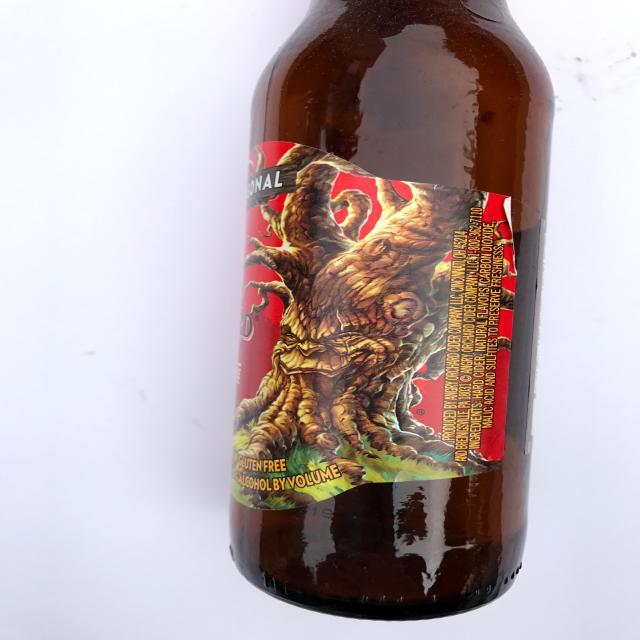glass: (227, 1, 557, 612)
